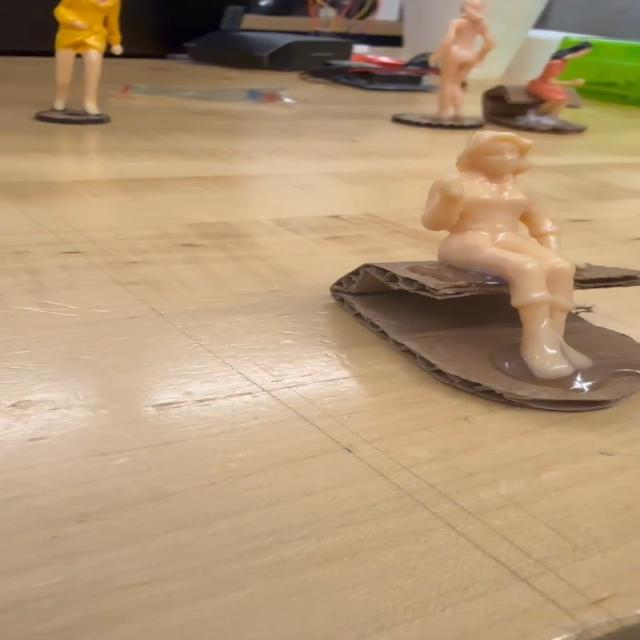Unauthorized: (400, 126, 613, 382)
